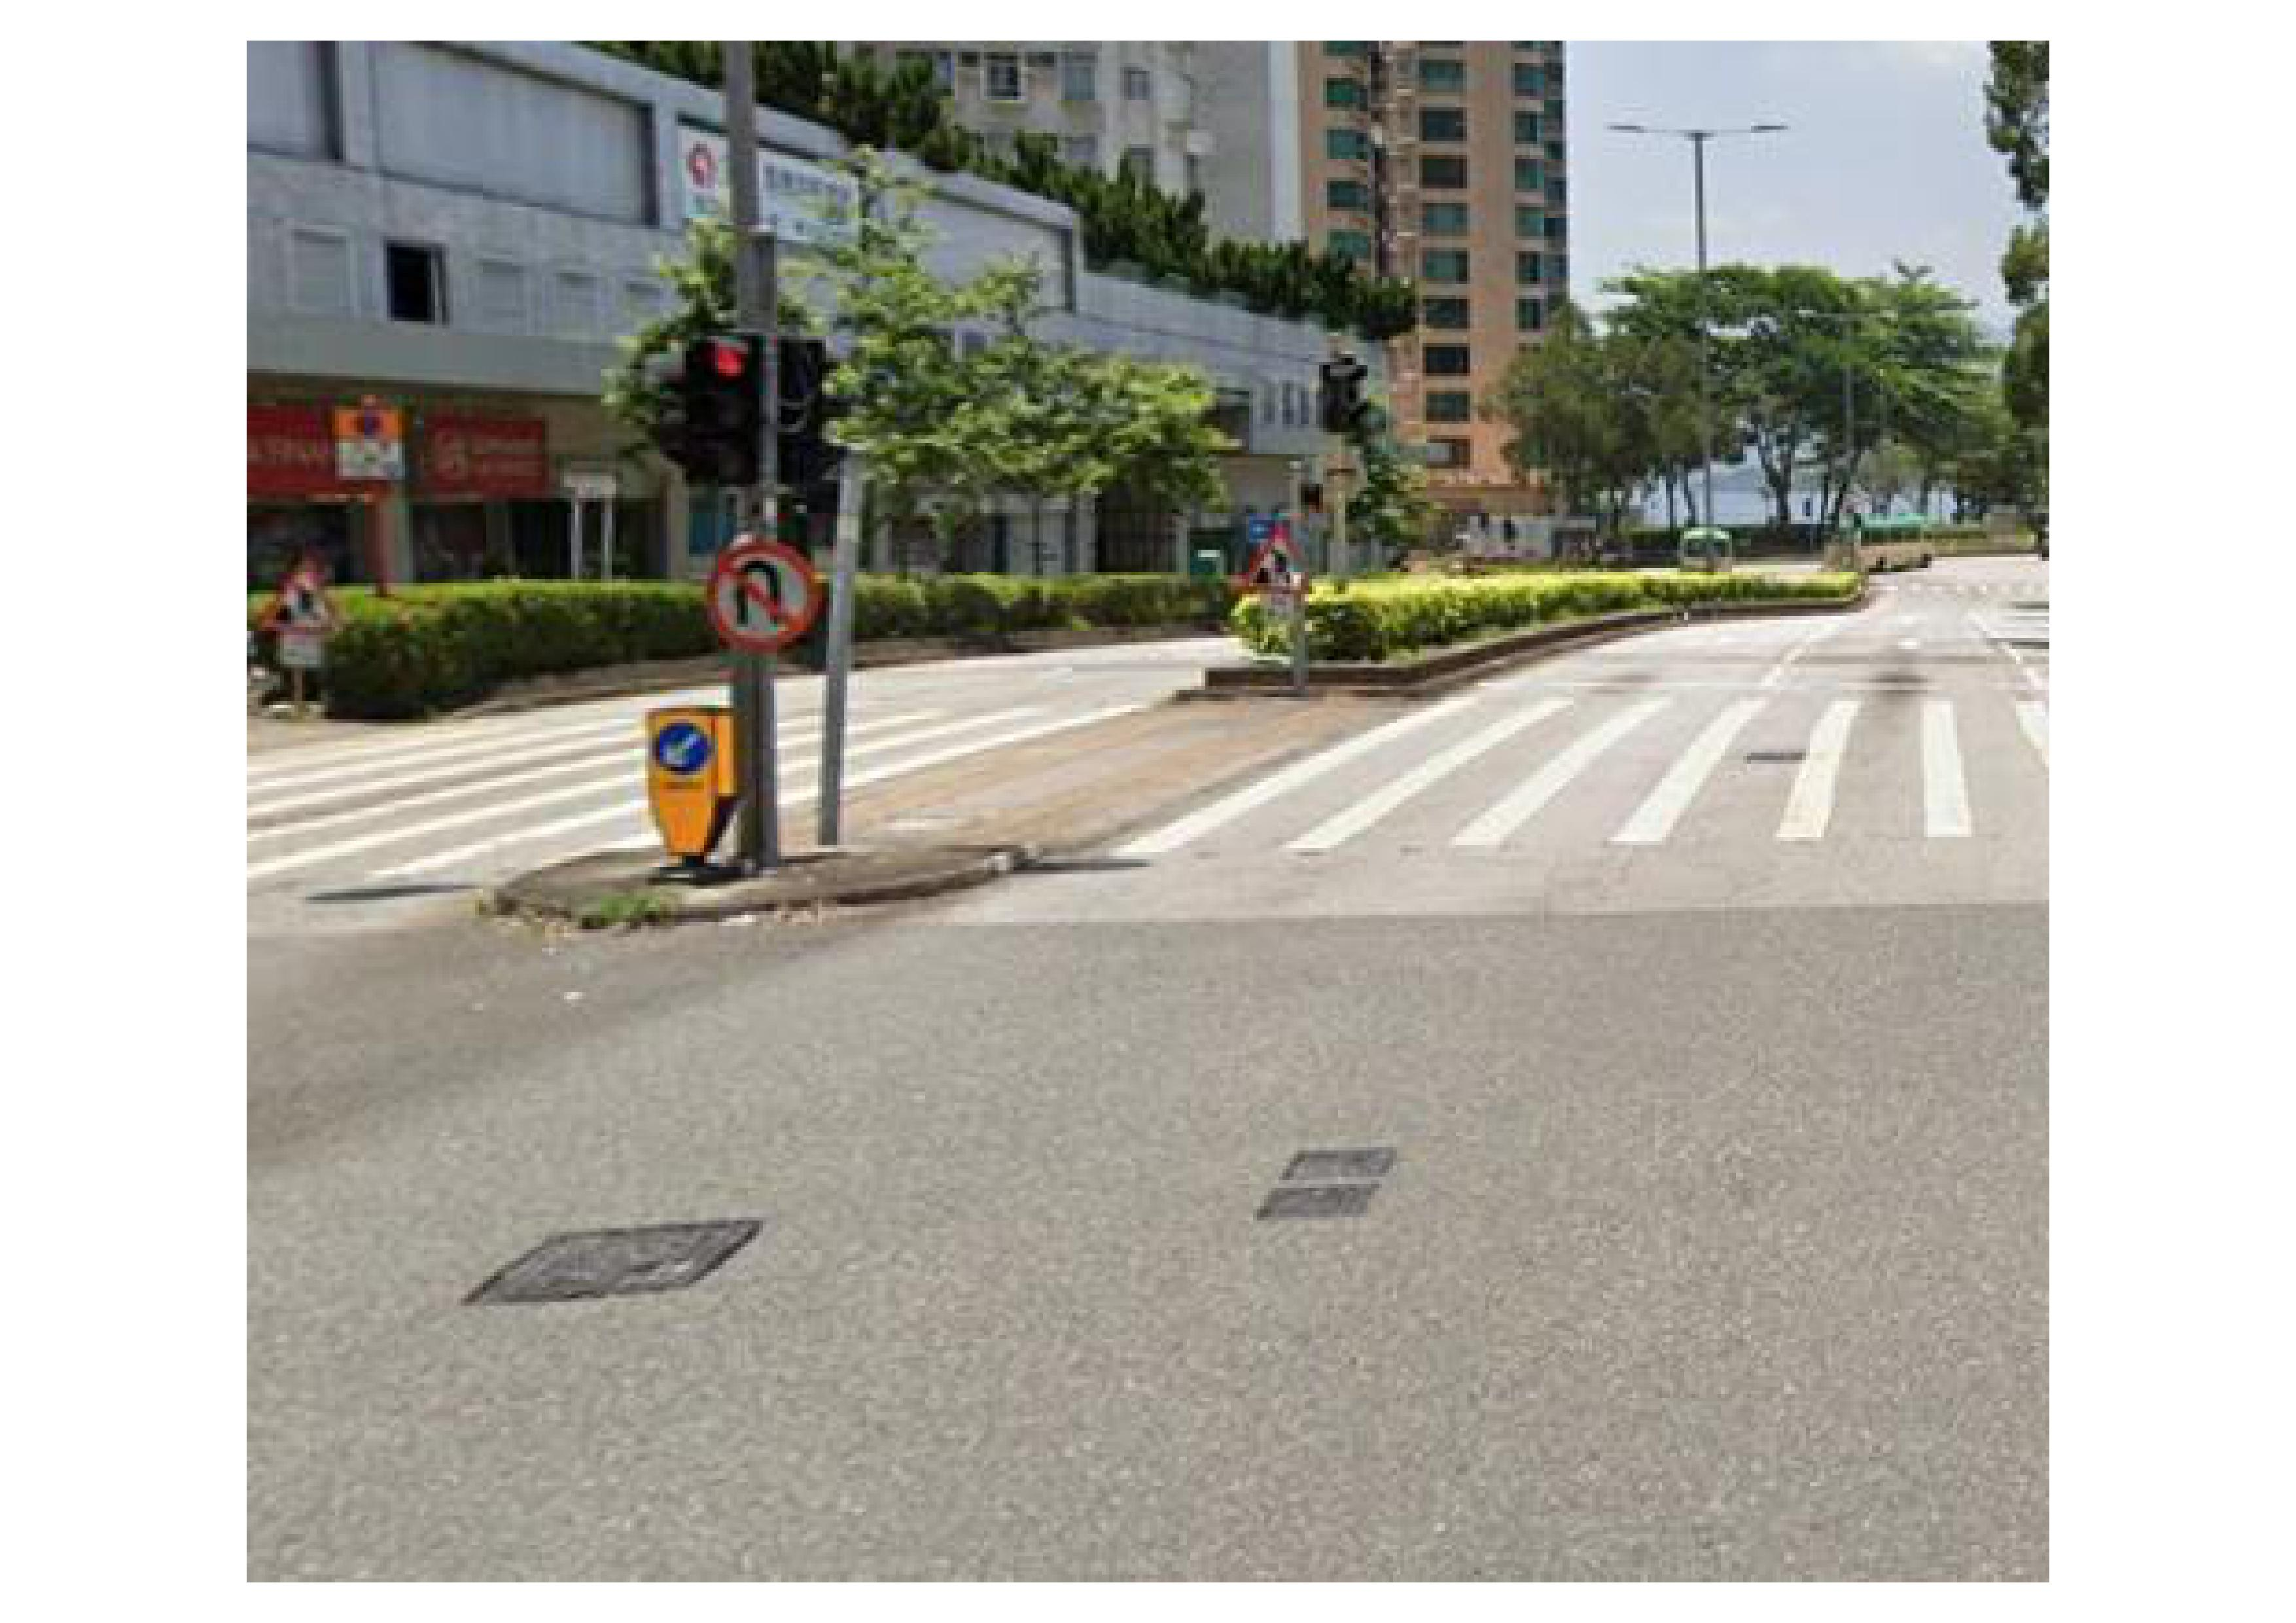No Uturn: (702, 536, 825, 657)
